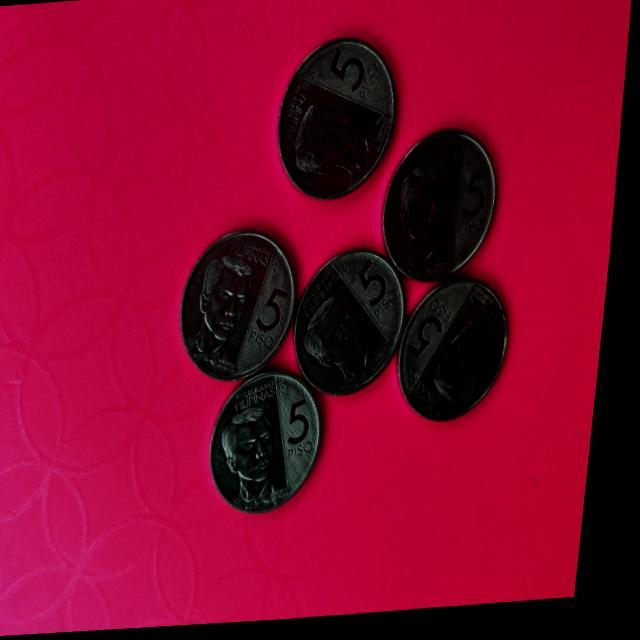5_New_Front: (319, 45, 386, 118), (455, 162, 507, 252), (358, 258, 411, 333), (254, 291, 307, 356), (407, 314, 459, 380), (285, 399, 325, 458)
